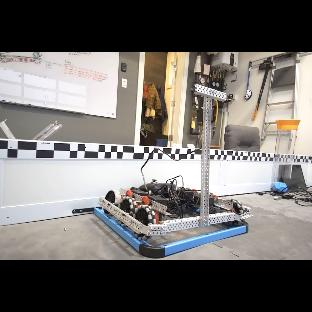Robot: (98, 85, 252, 240)
Robot_Parked: (94, 85, 253, 258)
